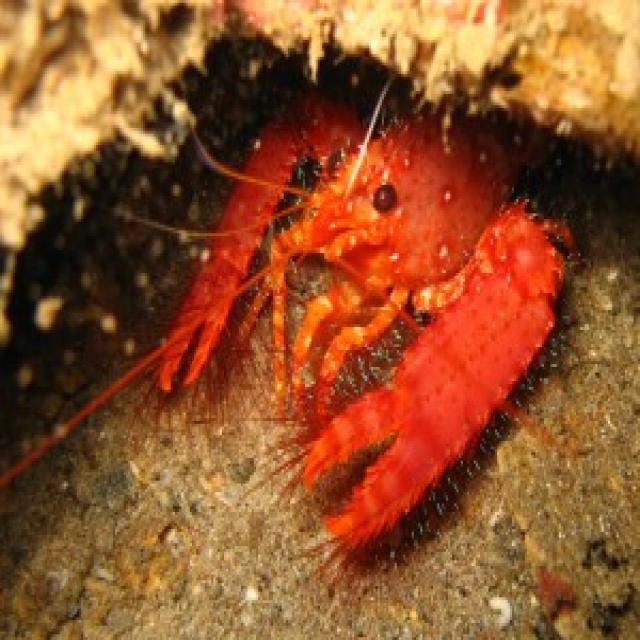lobsters: (93, 40, 593, 598)
